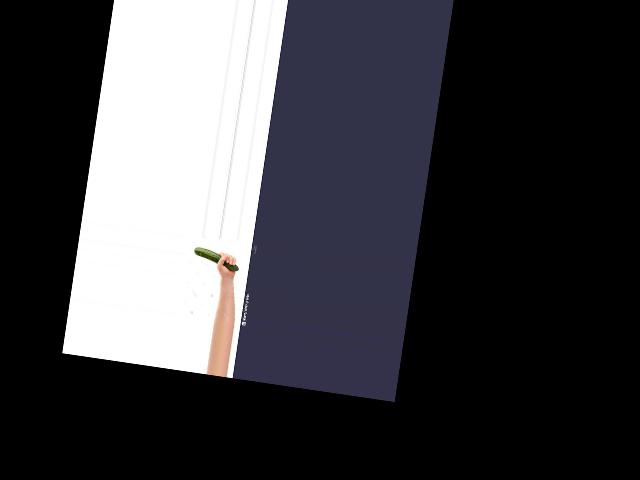cucumber: (192, 246, 241, 271)
